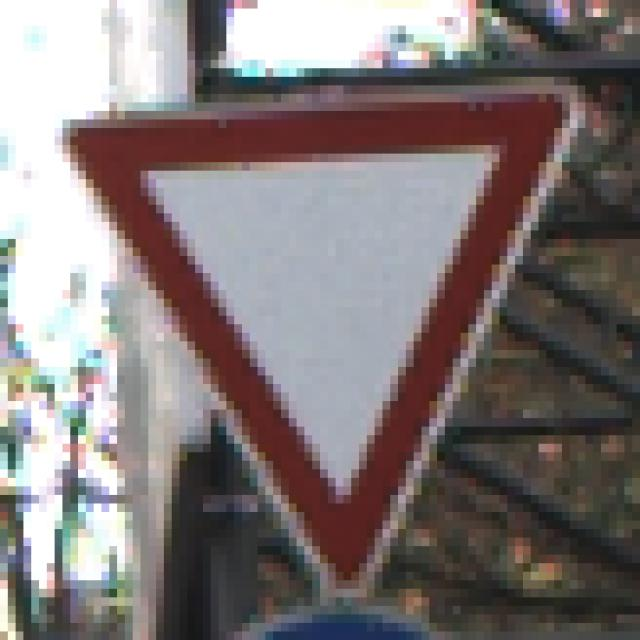Give Way: (56, 52, 586, 590)
